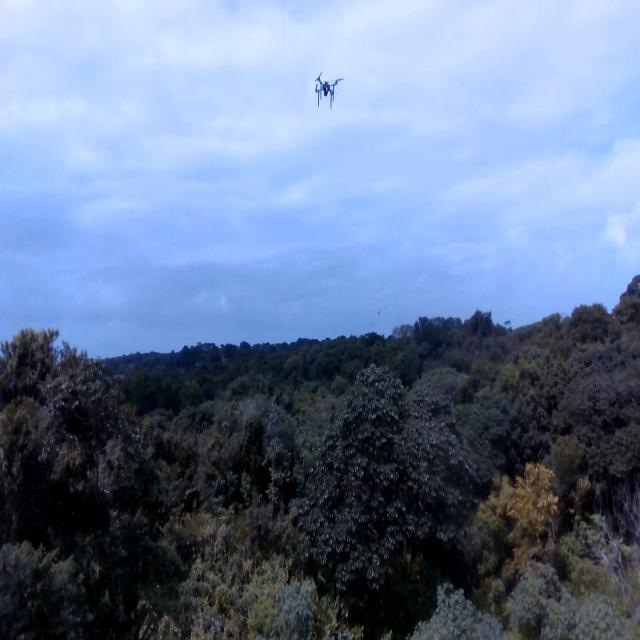-uav-: (308, 70, 354, 123)
